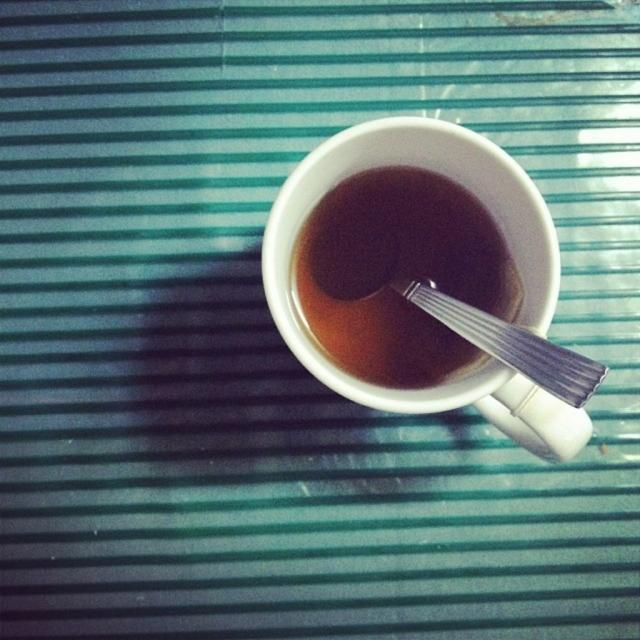Tea: (289, 169, 516, 390)
